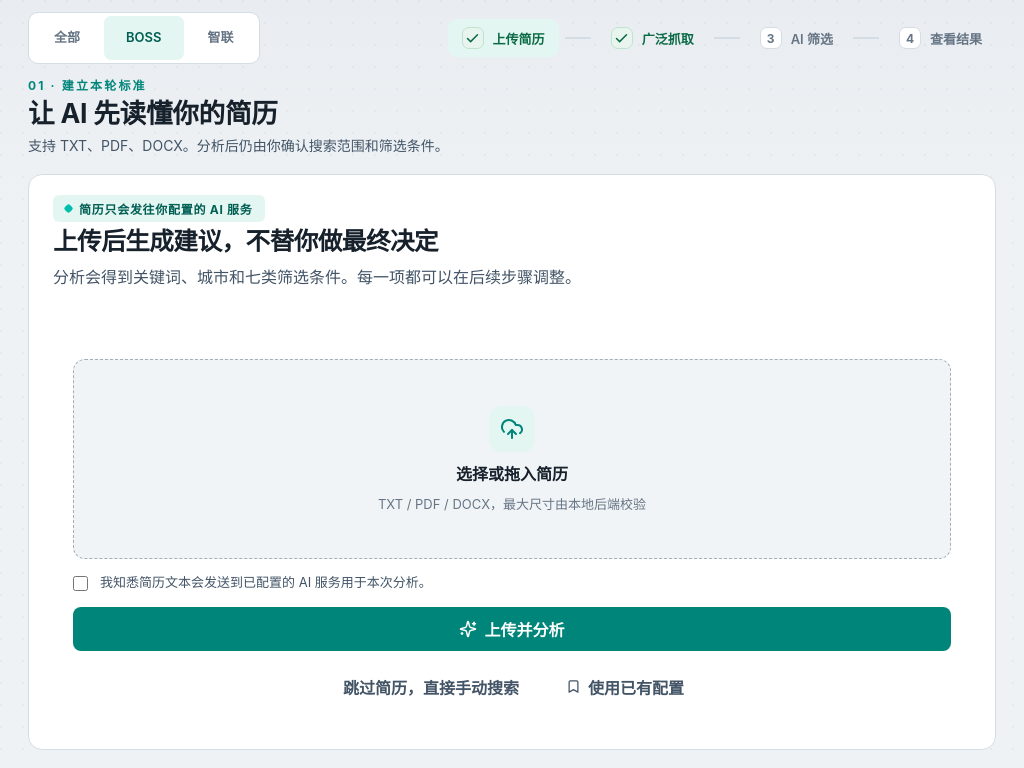
DiscoveryView B038 跳过 AI 直接查看 › 04 scraped_only 轮保持只读浏览：待筛选模式且不出现重抓胶囊
What coordinates should you click on to do the following:
click the button "4 查看结果"
I would click on:
 (940, 38)
Its box is x1=885 y1=19 x2=996 y2=57.
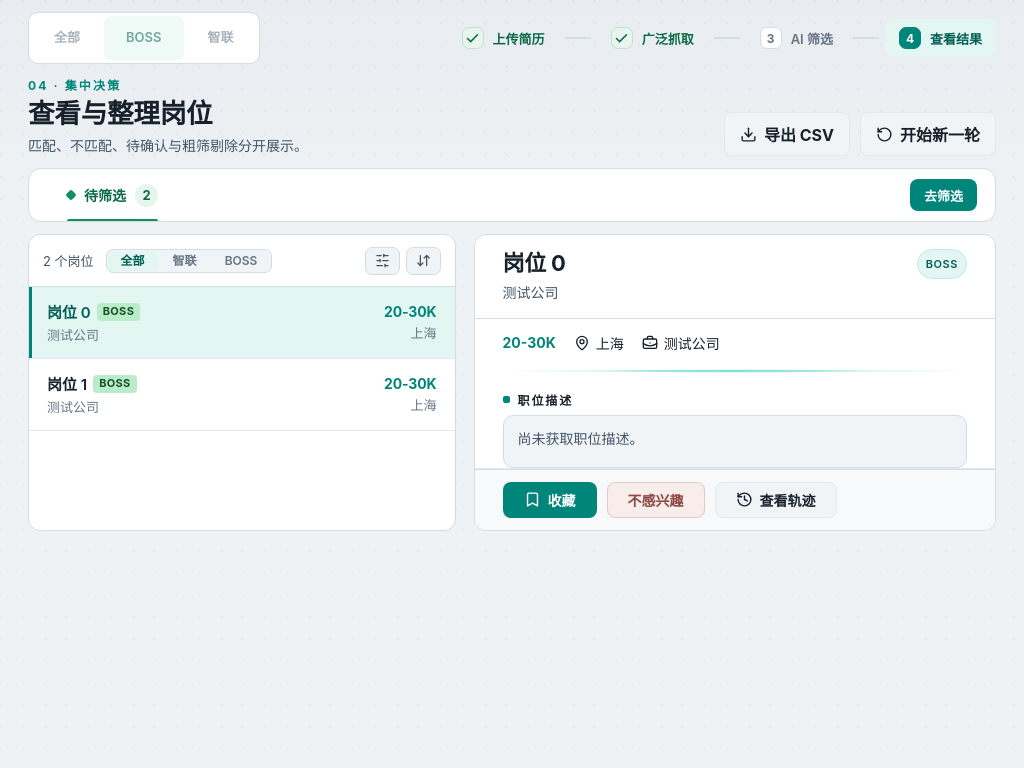
Expected: the text "待筛选" is shown, x1=47 y1=169 x2=178 y2=221
